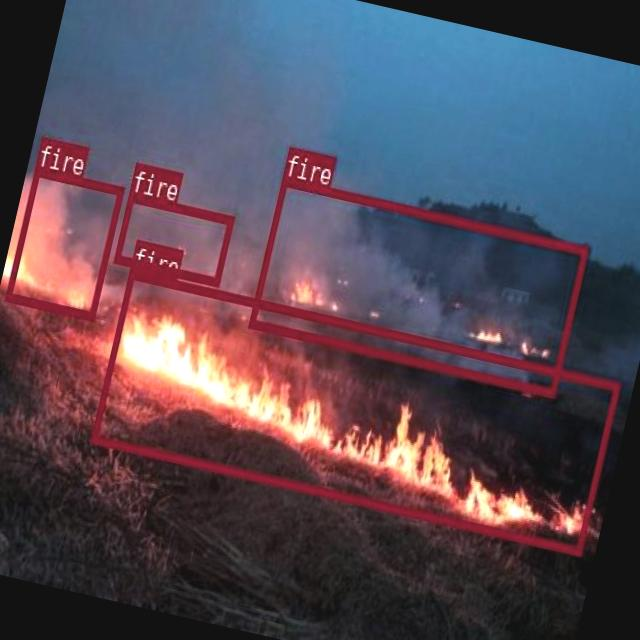fire: (90, 269, 619, 552), (246, 176, 587, 397), (3, 166, 122, 318), (112, 190, 234, 286)
